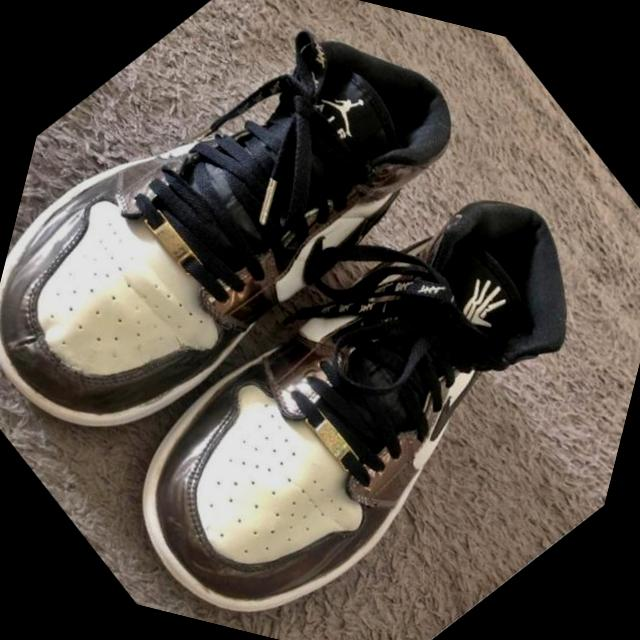nike_fake_jordan: (56, 71, 640, 640), (0, 0, 519, 552)
